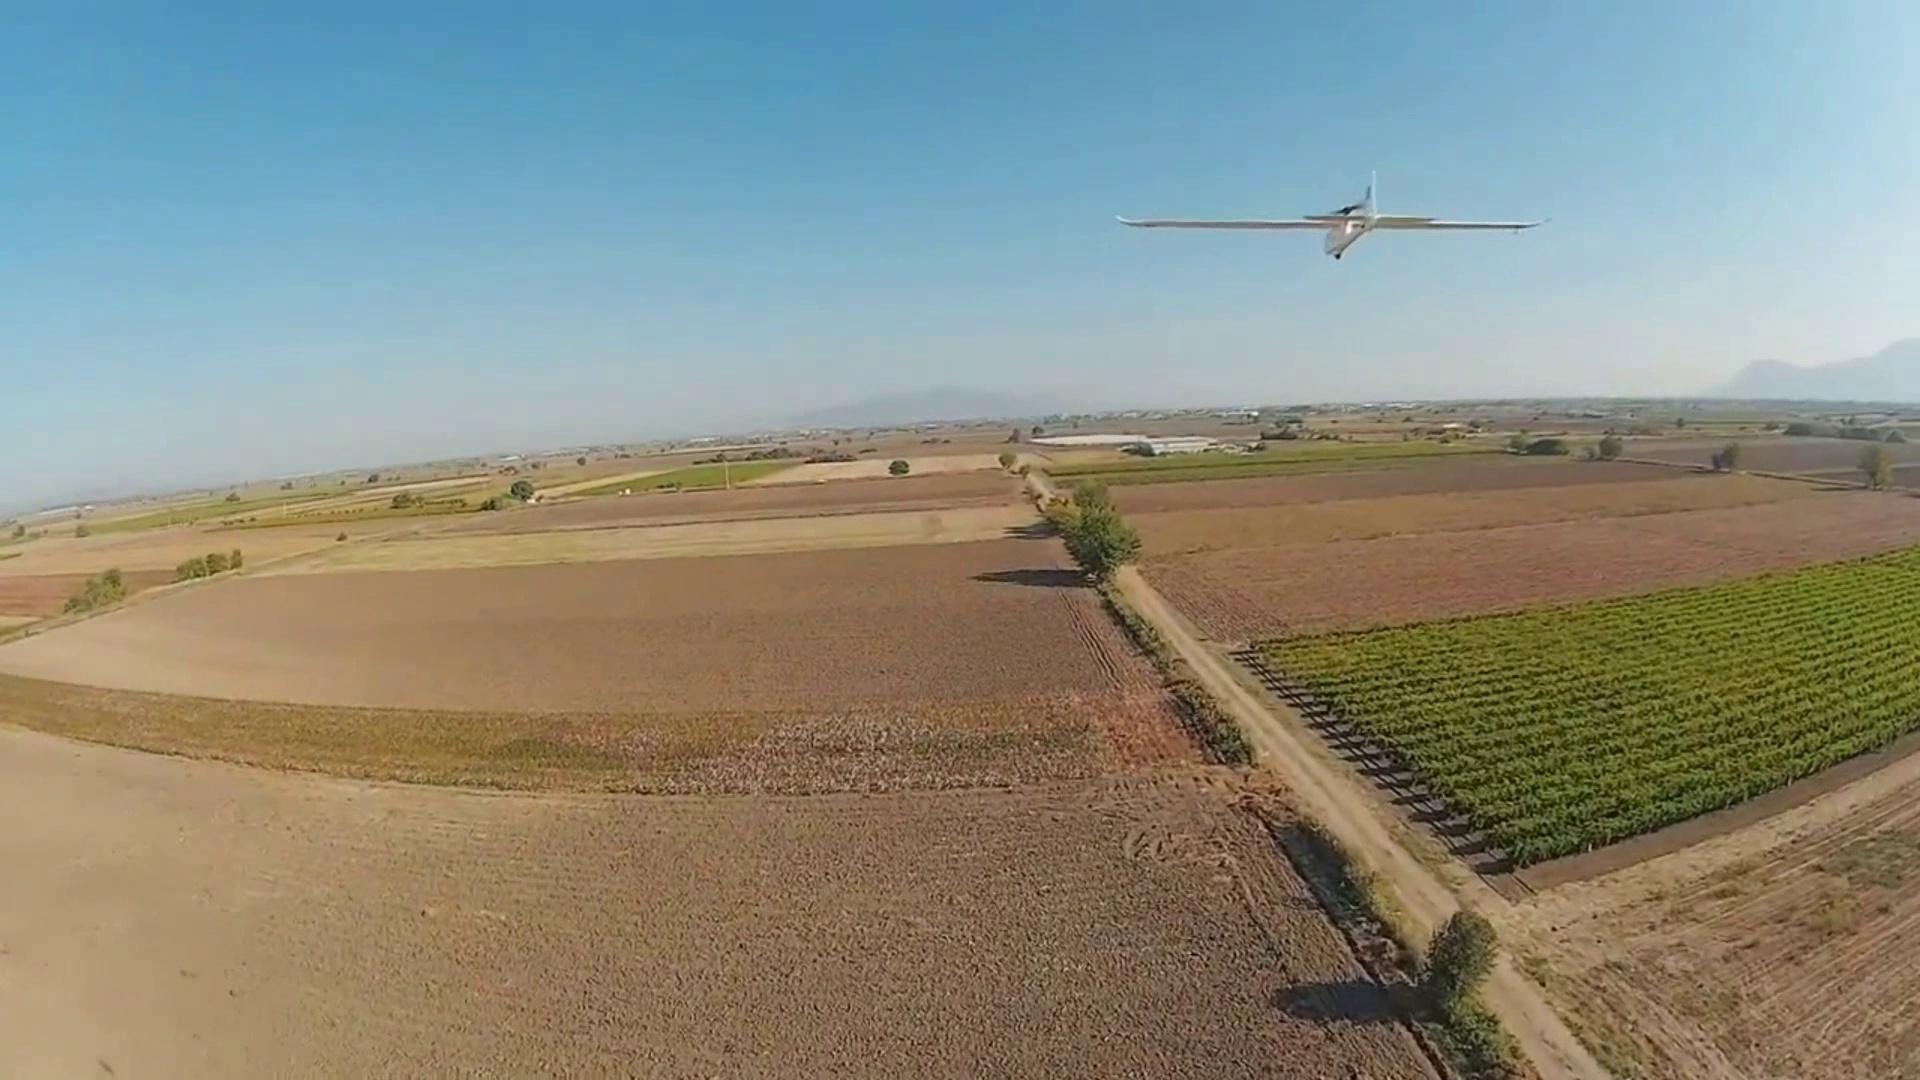airplane: (1114, 167, 1543, 260)
